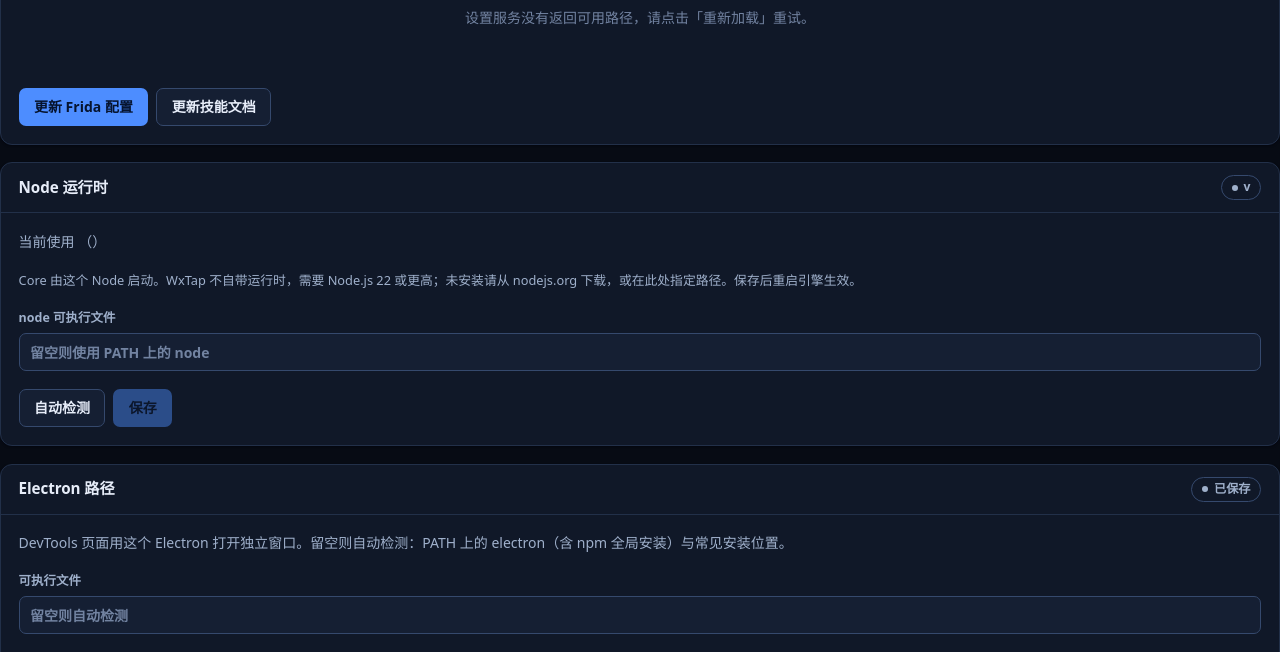
SettingsView › auto-detects a Node and fills the field with it
(page scrolled)
Click the button with test id "detect-node". click: (62, 408)
box: [19,389,105,427]
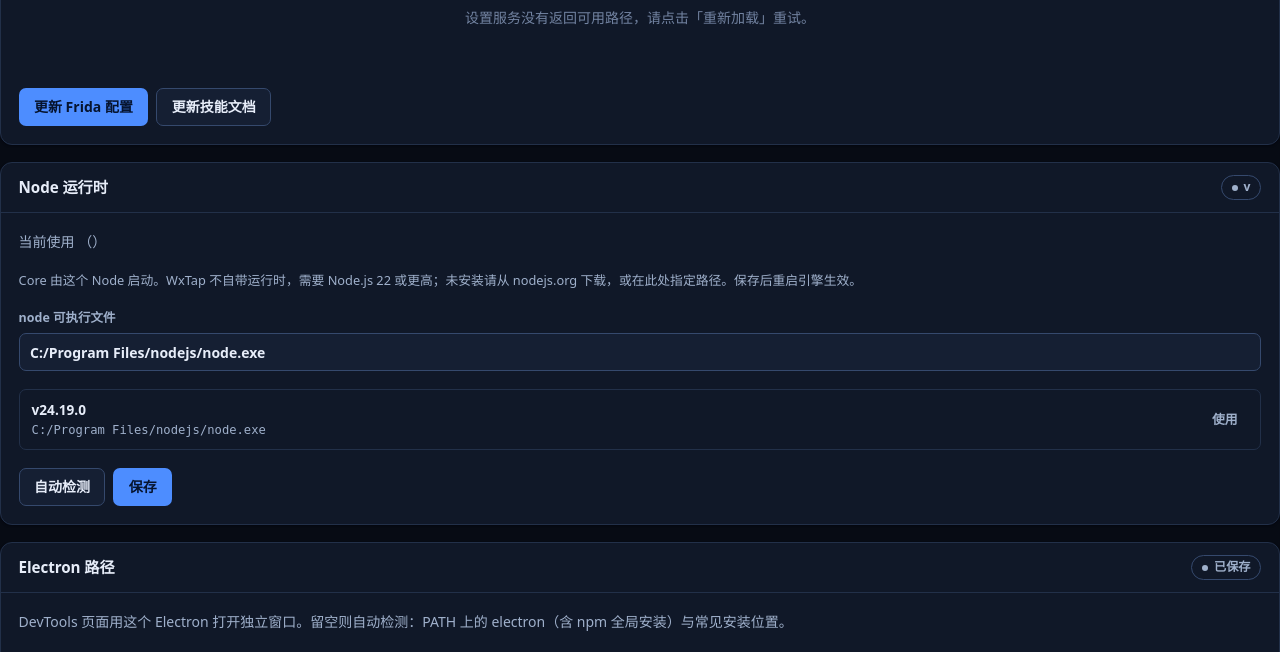
Expected: the field with test id "node-path" holds "C:/Program Files/nodejs/node.exe", [19,333,1261,371]
